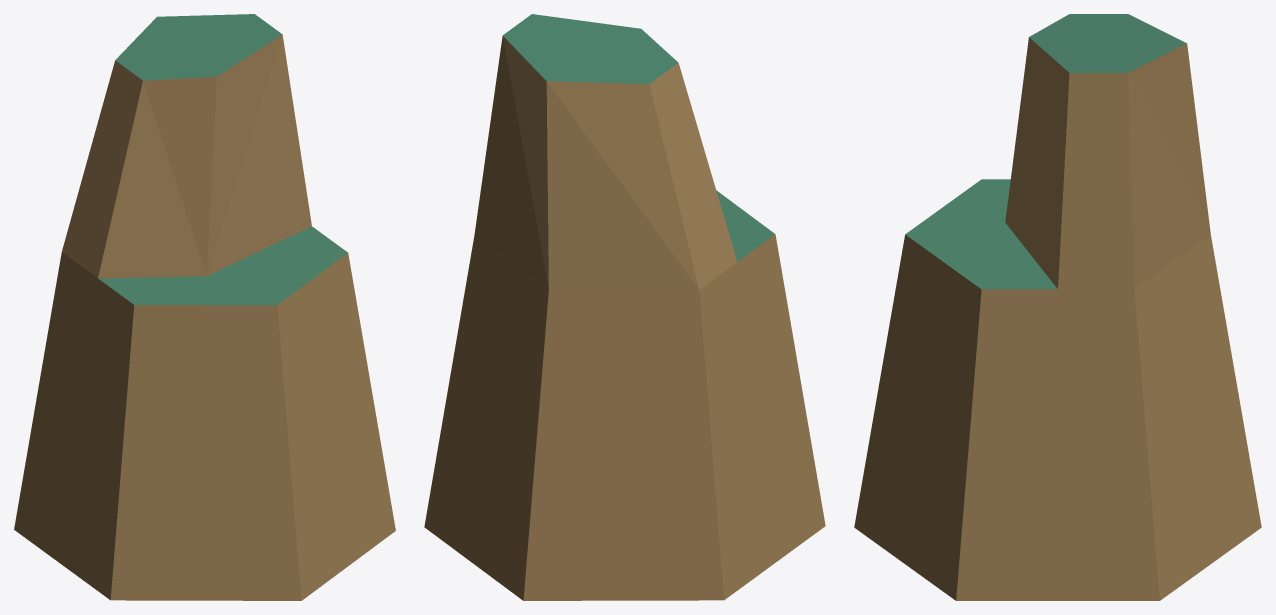
Rendered from Rock_Medium_Mesa_Eroded_Moss_Grass_07.FBX.
The picture shows the model from 3 angles, left to right: view 1: azimuth 30°, elevation 25°; view 2: azimuth 150°, elevation 25°; view 3: azimuth 270°, elevation 25°; orthographic projection. The views are drawn at different scales.
Parts seen in each view (by area): view 1: Rock_Medium_Mesa_Eroded_Moss_Grass_07; view 2: Rock_Medium_Mesa_Eroded_Moss_Grass_07; view 3: Rock_Medium_Mesa_Eroded_Moss_Grass_07.
Boxes of the visible parts, left/top/right/bottom form: Rock_Medium_Mesa_Eroded_Moss_Grass_07: left=14, top=14, right=395, bottom=600; Rock_Medium_Mesa_Eroded_Moss_Grass_07: left=424, top=14, right=825, bottom=600; Rock_Medium_Mesa_Eroded_Moss_Grass_07: left=854, top=14, right=1261, bottom=600.
Size of the model in its own units: 2340 by 3696 by 2745.
